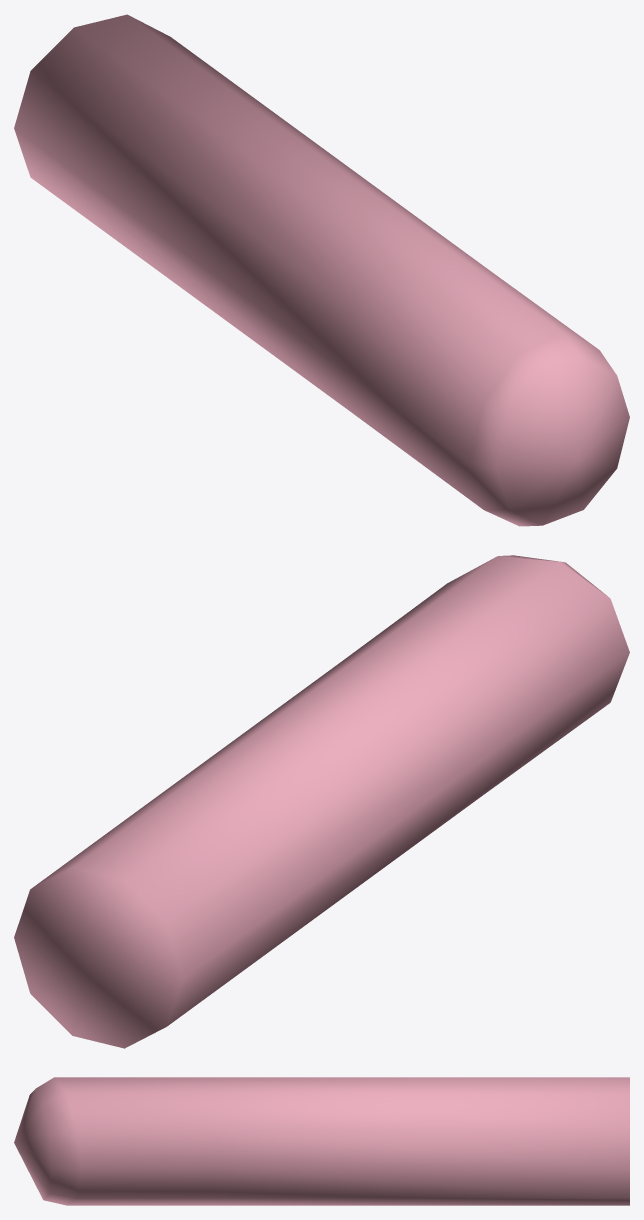
Rendered from CigLit.fbx.
3 renders of one model, top to bottom at view 1: azimuth 30°, elevation 25°; view 2: azimuth 150°, elevation 25°; view 3: azimuth 270°, elevation 25°, orthographic. The views are drawn at different scales.
Visible parts, largest first — view 1: CigLit; view 2: CigLit; view 3: CigLit.
Part boxes in pixels (x1,y1,x2,y2): CigLit: (14, 14, 629, 526); CigLit: (14, 555, 629, 1048); CigLit: (14, 1077, 629, 1205).
Bounding box in the file's own units: 2.02 × 1.9 × 9.55.
